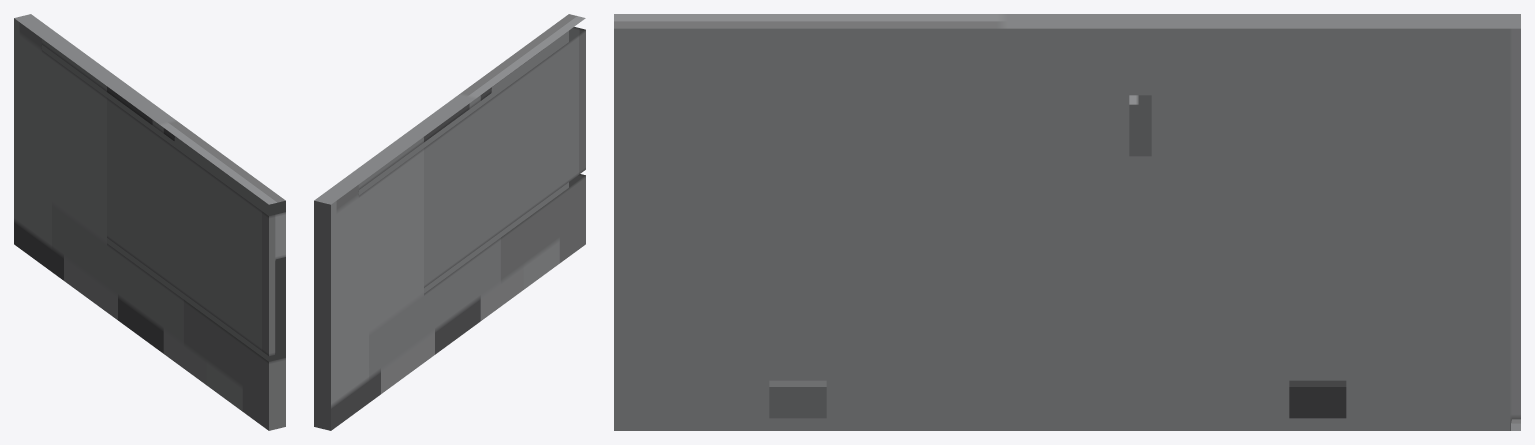
The picture shows the model from 3 angles, left to right: view 1: azimuth 30°, elevation 25°; view 2: azimuth 150°, elevation 25°; view 3: azimuth 270°, elevation 25°; orthographic projection. The views are drawn at different scales.
Size of the model in its own units: 0.092 by 0.7 by 1.43.
